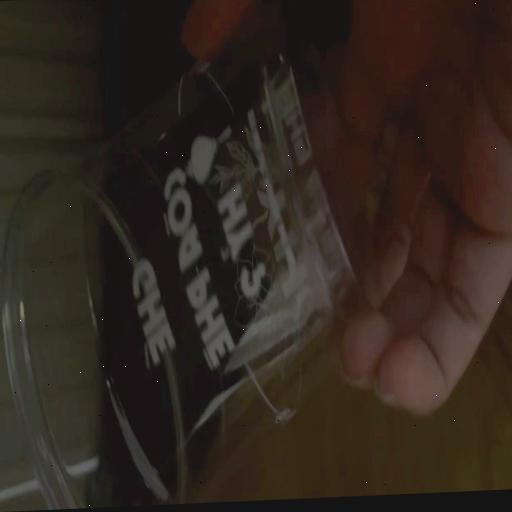ly_giay: (2, 29, 353, 510)
